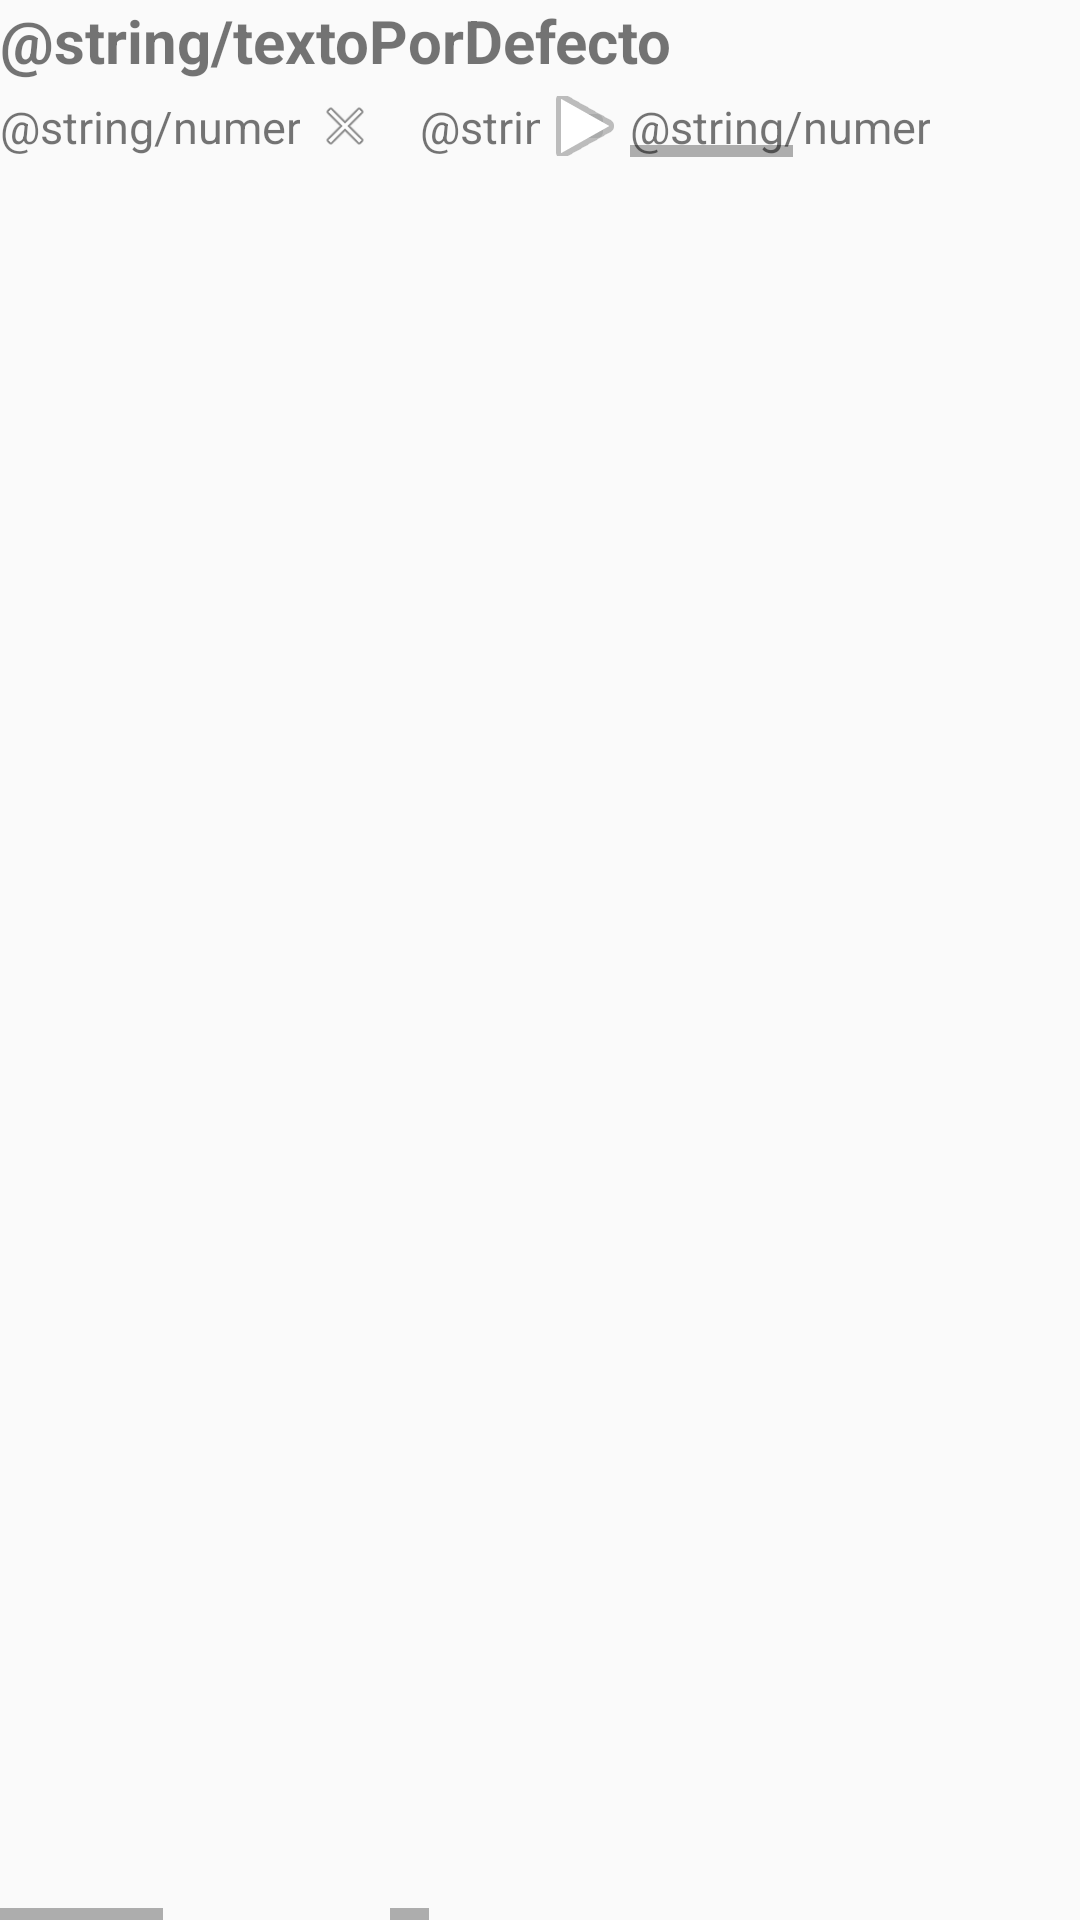

Screen size 1080*1920. Icon name, then its box in pixels as BBox(x1, y1, x2, y2):
close clear cancel: BBox(326, 107, 364, 145)
play: BBox(556, 96, 614, 156)
